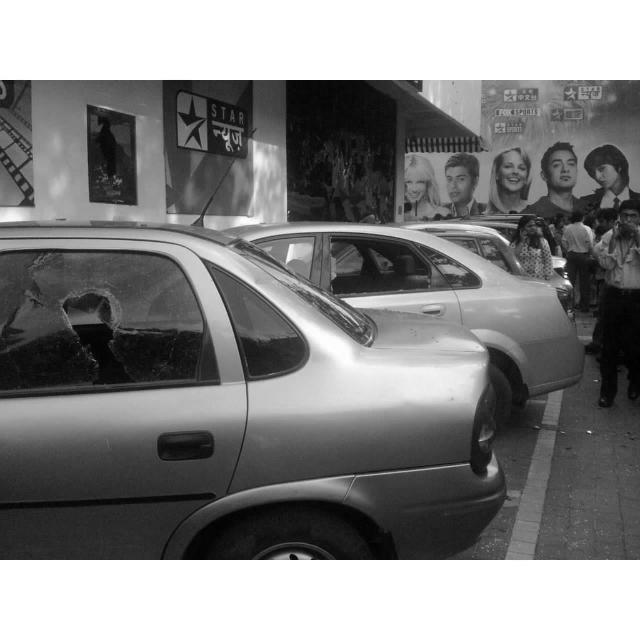doorouter-dent: (7, 248, 193, 484)
